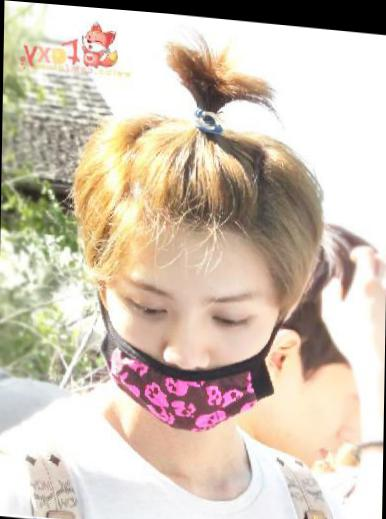WRONG: (116, 265, 279, 438)
